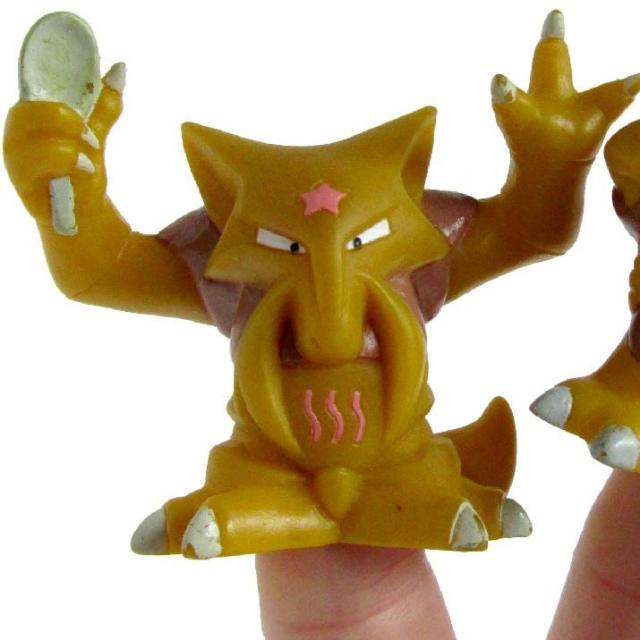Kadabra: (102, 96, 516, 563)
